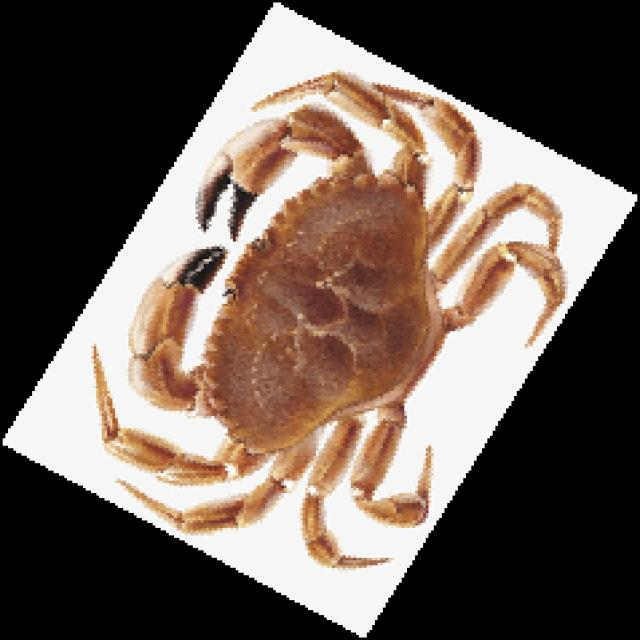Native Jonah crab: (94, 72, 565, 563)
